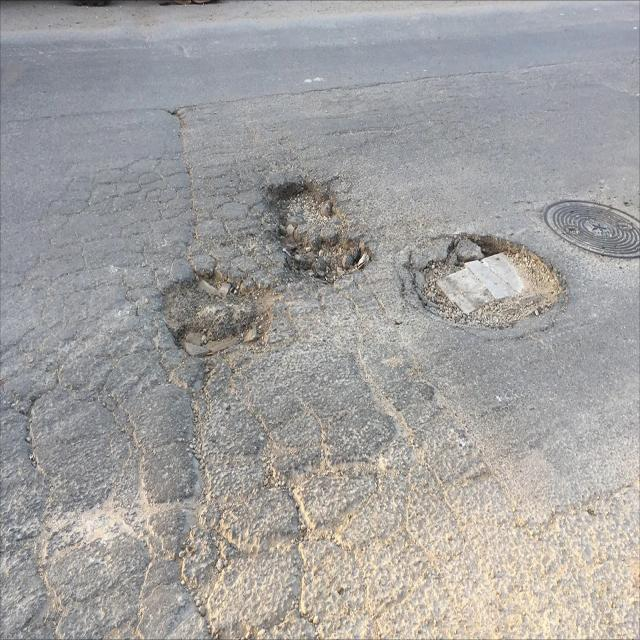p2: (385, 234, 558, 379)
